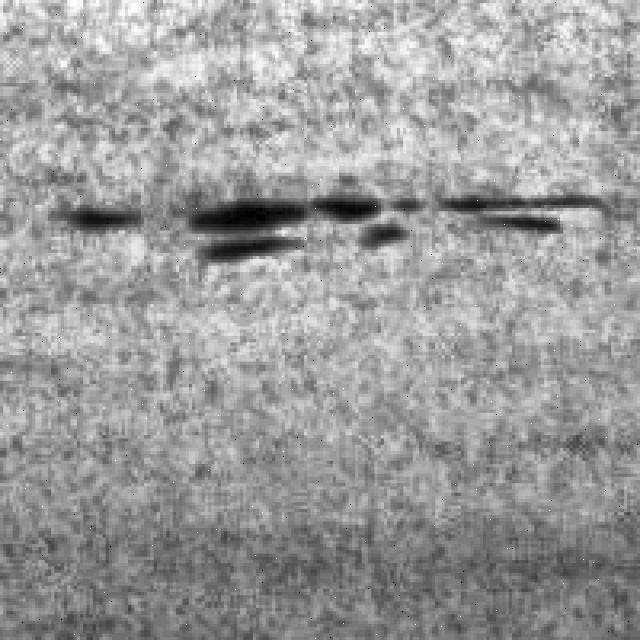Patches: (172, 175, 614, 262), (58, 192, 160, 237)
